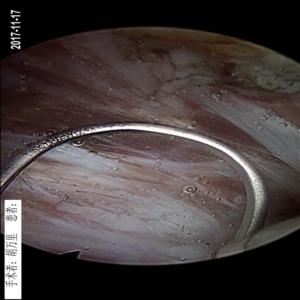film: (24, 41, 295, 231)
